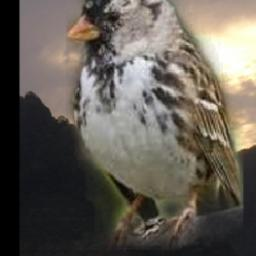Sparrow: (66, 0, 243, 250)
